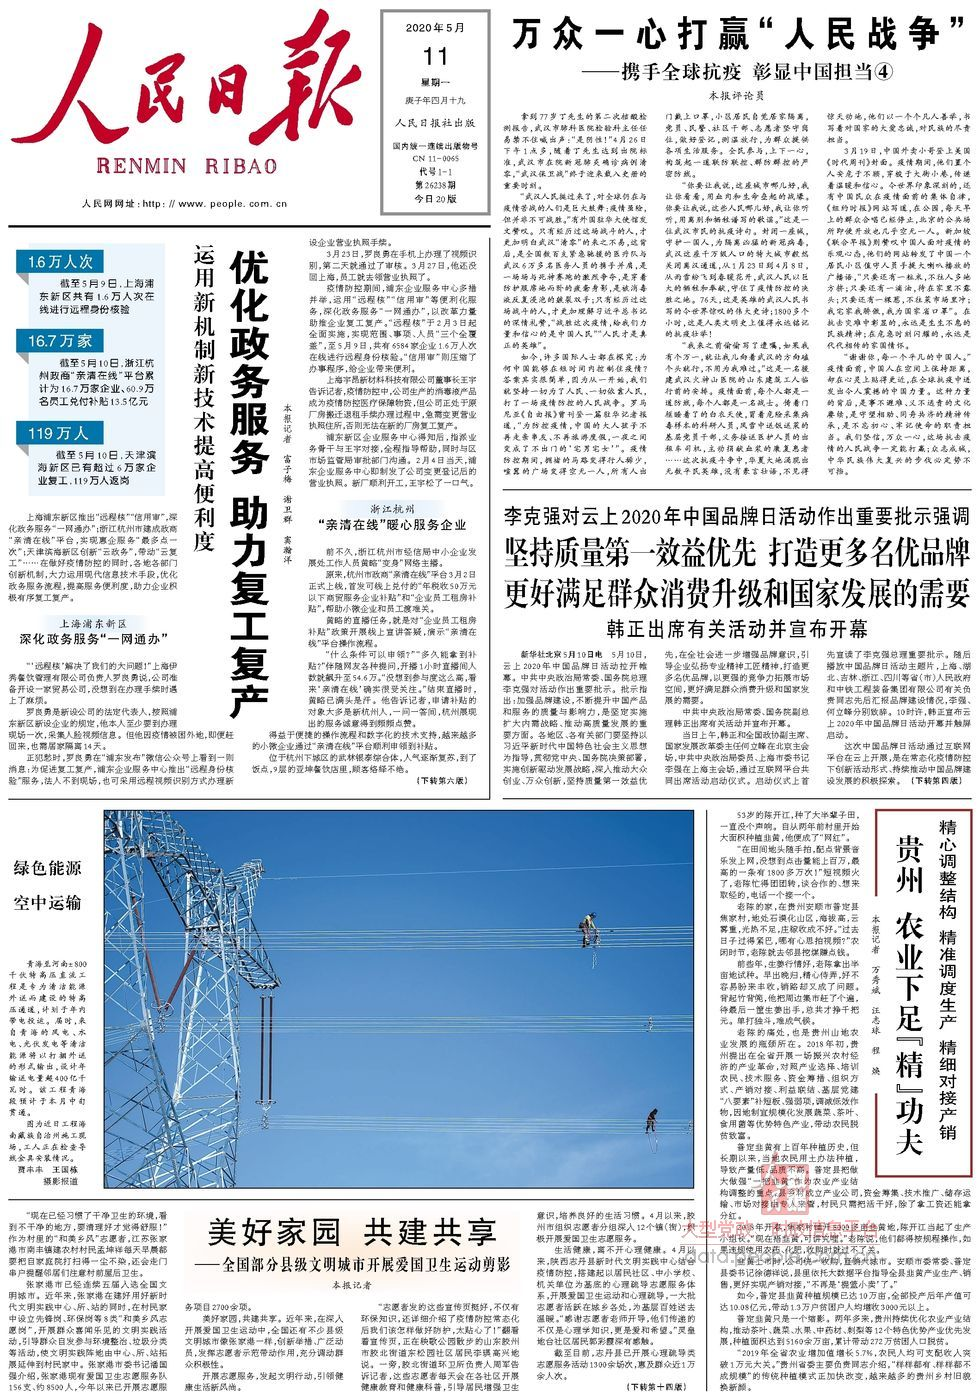pic: (99, 804, 700, 1195)
